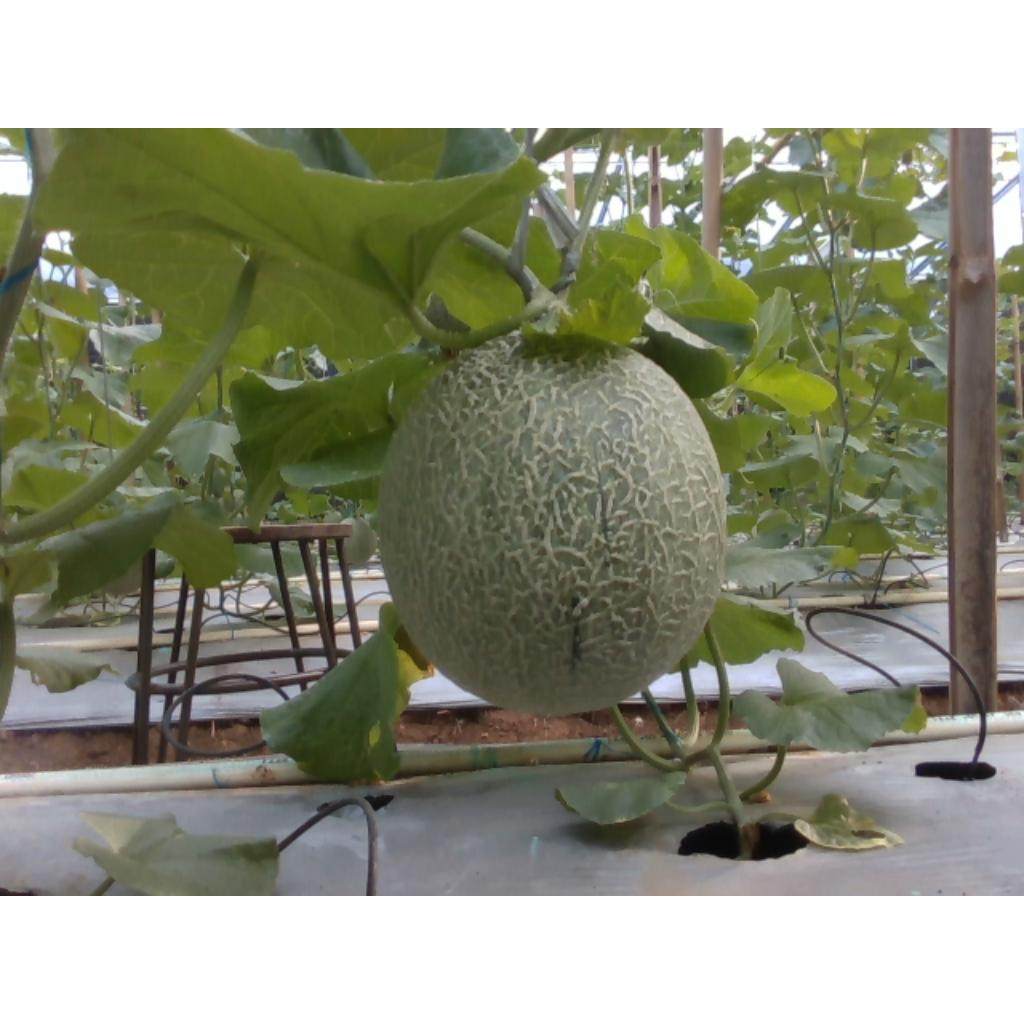melon: (381, 334, 726, 714)
